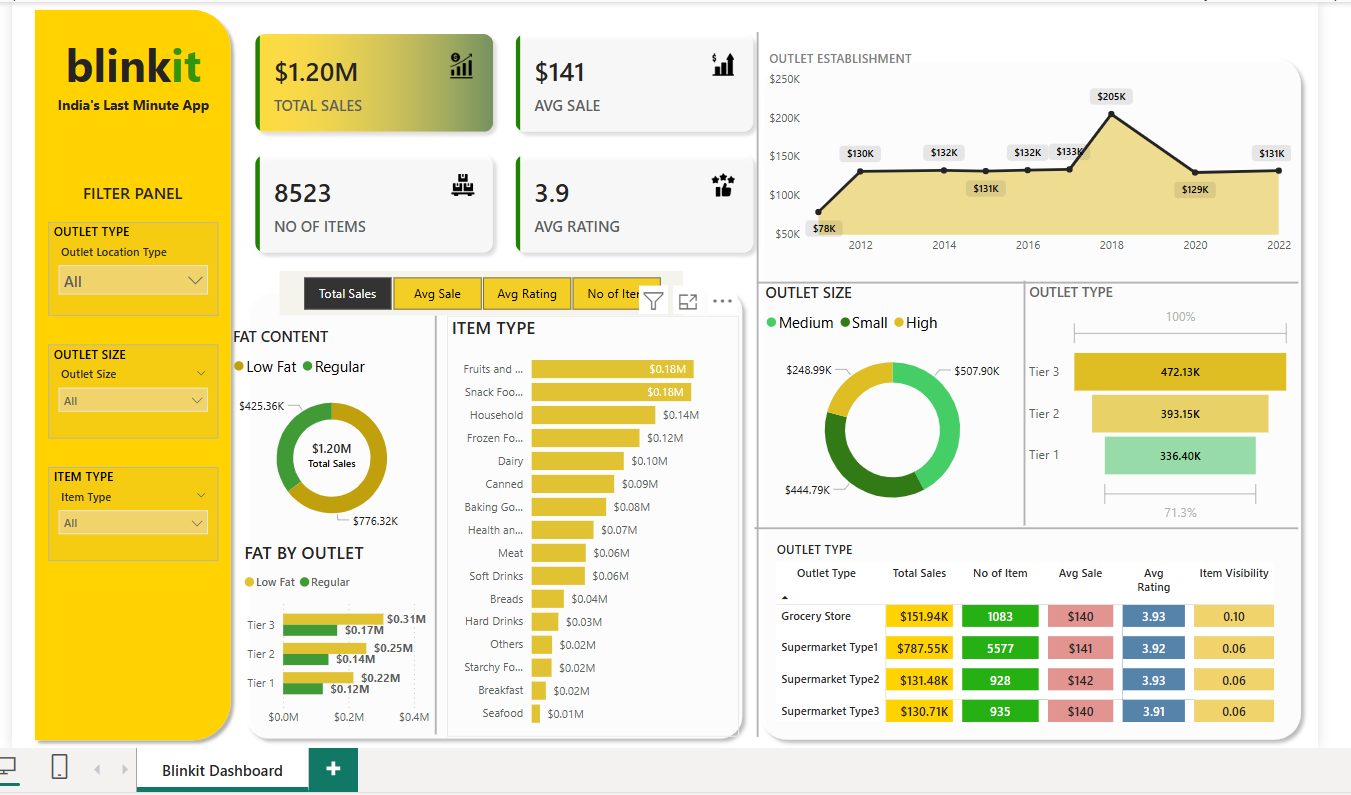

Layout of this report page (visuals, bound fields, positions):
{"tool":"powerbi","page":{"name":"Page 1","canvas":[1400,800],"ordinal":0},"visuals":[{"type":"shape","box":[16.5,0,226.6,800],"z":0},{"type":"textbox","box":[38.9,29.5,182.3,107.2],"z":1000},{"type":"textbox","box":[38.9,95.2,182.3,41.6],"z":2000},{"type":"cardVisual","fields":{"Data":["BlinkIT Grocery Data.Total Sales","BlinkIT Grocery Data.Avg Sale","BlinkIT Grocery Data.No of Item","BlinkIT Grocery Data.Avg Rating"]},"box":[244,17.4,569.7,269.4],"z":3000},{"type":"shape","box":[242.6,298.9,549.6,500],"z":4000},{"type":"donutChart","title":"FAT CONTENT","fields":{"Y":["BlinkIT Grocery Data.Total Sales"],"Category":["BlinkIT Grocery Data.Item Fat Content"]},"box":[231.9,347.2,222.5,230.6],"z":5000},{"type":"slicer","fields":{"Values":["Metrics.Metrics"]},"box":[286.9,288.2,433,48.3],"z":6000},{"type":"cardVisual","fields":{"Data":["BlinkIT Grocery Data.Total Sales"]},"box":[294.9,451.7,96.5,67],"z":7000},{"type":"clusteredBarChart","title":"FAT BY OUTLET","fields":{"Y":["BlinkIT Grocery Data.Total Sales"],"Category":["BlinkIT Grocery Data.Outlet Location Type"],"Series":["BlinkIT Grocery Data.Item Fat Content"]},"box":[244,577.8,222.5,207.8],"z":8000},{"type":"shape","box":[442.4,336.5,24.1,449.1],"z":9000},{"type":"barChart","title":"ITEM TYPE","fields":{"Y":["BlinkIT Grocery Data.Total Sales"],"Category":["BlinkIT Grocery Data.Item Type"]},"box":[466.5,336.5,312.3,451.7],"z":10000},{"type":"shape","box":[793.6,50.9,597.9,749.3],"z":11000},{"type":"lineChart","title":"OUTLET ESTABLISHMENT","fields":{"Y":["BlinkIT Grocery Data.Total Sales"],"Category":["BlinkIT Grocery Data.Outlet Establishment Year"]},"box":[807,50.9,569.7,227.9],"z":12000},{"type":"shape","box":[798.9,288.2,580.4,25.5],"z":13000},{"type":"donutChart","title":"OUTLET SIZE","fields":{"Y":["BlinkIT Grocery Data.Total Sales"],"Category":["BlinkIT Grocery Data.Outlet Size"]},"box":[803,300.3,282.8,264.1],"z":14000},{"type":"shape","box":[1079.1,298.9,13.4,262.7],"z":15000},{"type":"funnel","title":"OUTLET TYPE ","fields":{"Y":["Sum(BlinkIT Grocery Data.Sales)"],"Category":["BlinkIT Grocery Data.Outlet Location Type"]},"box":[1085.8,300.3,290.9,262.7],"z":16000},{"type":"shape","box":[796.3,550.9,583.1,26.8],"z":17000},{"type":"slicer","title":"OUTLET TYPE","fields":{"Values":["BlinkIT Grocery Data.Outlet Location Type"]},"box":[38.9,235.9,182.3,100.5],"z":18000},{"type":"slicer","title":"OUTLET SIZE","fields":{"Values":["BlinkIT Grocery Data.Outlet Size"]},"box":[38.9,367.3,182.3,100.5],"z":19000},{"type":"slicer","title":"ITEM TYPE","fields":{"Values":["BlinkIT Grocery Data.Item Type"]},"box":[38.9,498.7,182.3,100.5],"z":20000},{"type":"shape","title":"FILTER PANEL","box":[65.7,193,127.3,28.2],"z":21000},{"type":"pivotTable","title":"OUTLET TYPE","fields":{"Values":["BlinkIT Grocery Data.Total Sales","BlinkIT Grocery Data.No of Item","BlinkIT Grocery Data.Avg Sale","BlinkIT Grocery Data.Avg Rating","Avg(BlinkIT Grocery Data.Item Visibility)"],"Rows":["BlinkIT Grocery Data.Outlet Type"]},"box":[815,577.8,561.7,206.4],"z":22000},{"type":"shape","box":[778.8,32.2,41.6,756],"z":23000}]}

Visuals, with their boxes on the page's 1400x800 design canvas (x1, y1, x2, y2). These are canvas units, not pixel positions in the 1351x795 screenshot, which may show the page scaled, cropped or inside an application window:
shape: <region>16, 0, 243, 800</region>
textbox: <region>39, 30, 221, 137</region>
textbox: <region>39, 95, 221, 137</region>
cardVisual - BlinkIT Grocery Data.Total Sales x BlinkIT Grocery Data.Avg Sale: <region>244, 17, 814, 287</region>
shape: <region>243, 299, 792, 799</region>
"FAT CONTENT" donutChart: <region>232, 347, 454, 578</region>
slicer - Metrics.Metrics: <region>287, 288, 720, 336</region>
cardVisual - BlinkIT Grocery Data.Total Sales: <region>295, 452, 391, 519</region>
"FAT BY OUTLET" clusteredBarChart: <region>244, 578, 466, 786</region>
shape: <region>442, 336, 466, 786</region>
"ITEM TYPE" barChart: <region>466, 336, 779, 788</region>
shape: <region>794, 51, 1392, 800</region>
"OUTLET ESTABLISHMENT" lineChart: <region>807, 51, 1377, 279</region>
shape: <region>799, 288, 1379, 314</region>
"OUTLET SIZE" donutChart: <region>803, 300, 1086, 564</region>
shape: <region>1079, 299, 1092, 562</region>
"OUTLET TYPE " funnel: <region>1086, 300, 1377, 563</region>
shape: <region>796, 551, 1379, 578</region>
"OUTLET TYPE" slicer: <region>39, 236, 221, 336</region>
"OUTLET SIZE" slicer: <region>39, 367, 221, 468</region>
"ITEM TYPE" slicer: <region>39, 499, 221, 599</region>
"FILTER PANEL" shape: <region>66, 193, 193, 221</region>
"OUTLET TYPE" pivotTable: <region>815, 578, 1377, 784</region>
shape: <region>779, 32, 820, 788</region>
